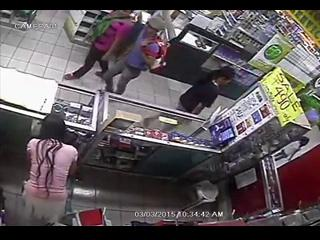Normal: (20, 114, 79, 226), (98, 12, 176, 95), (63, 11, 140, 80), (174, 66, 234, 116)
